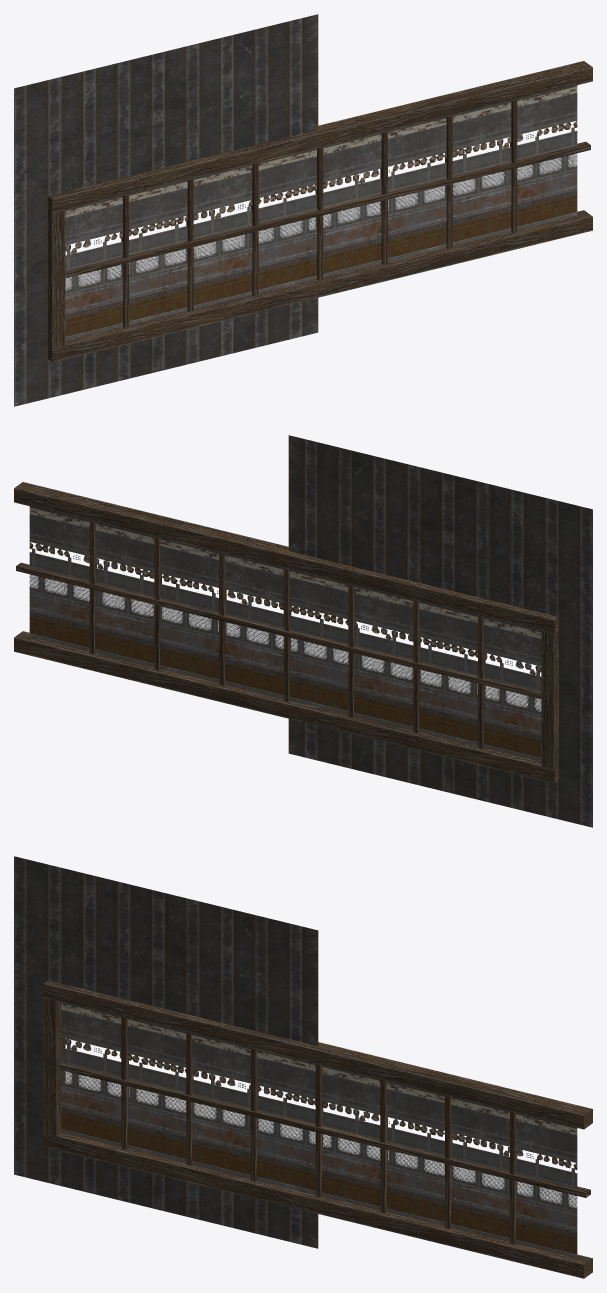
Rendered from window_start8x4.fbx.
3 renders of one model, top to bottom at view 1: azimuth 30°, elevation 25°; view 2: azimuth 150°, elevation 25°; view 3: azimuth 330°, elevation 25°, orthographic.
Parts seen in each view (by area): view 1: window_start8x4; view 2: window_start8x4; view 3: window_start8x4.
Boxes of the visible parts, box(x1,y1,x2,y2) form: window_start8x4: box(14, 14, 592, 406); window_start8x4: box(14, 435, 592, 827); window_start8x4: box(14, 856, 592, 1278).
Bounding box in the file's own units: 755 × 400 × 20.34.
